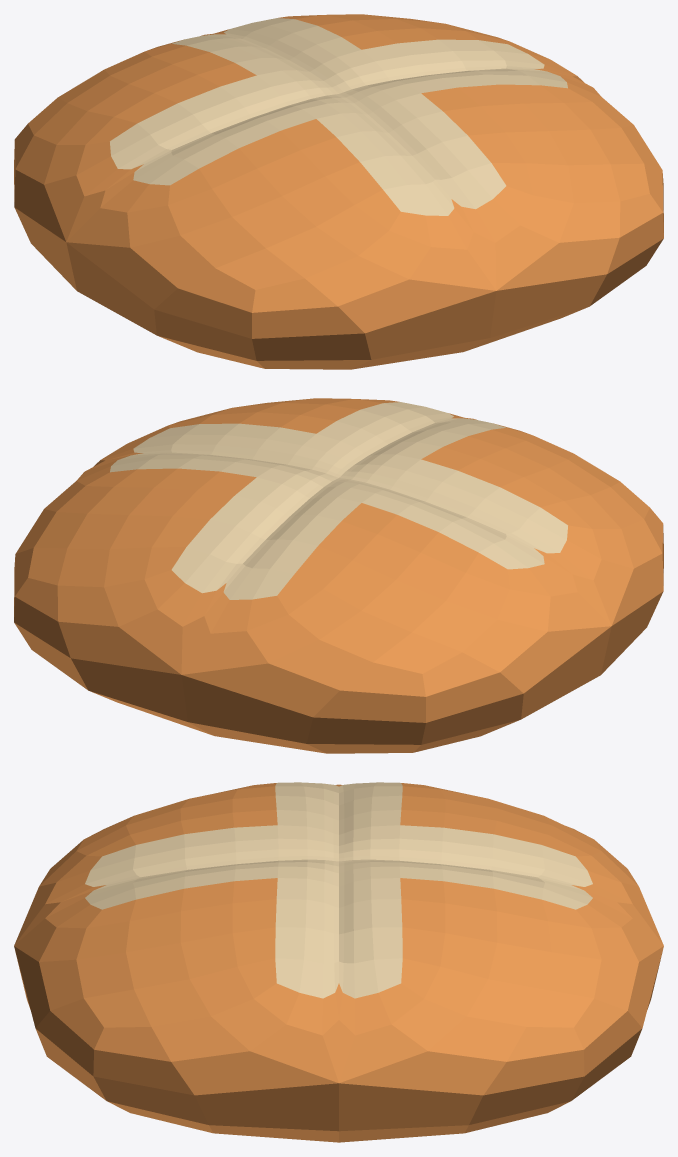
File: market-bread1.fbx
The picture shows the model from 3 angles, top to bottom: view 1: azimuth 30°, elevation 25°; view 2: azimuth 150°, elevation 25°; view 3: azimuth 270°, elevation 25°; orthographic projection. The views are drawn at different scales.
Parts seen in each view (by area): view 1: Cube.138; view 2: Cube.138; view 3: Cube.138.
Part boxes in pixels (x1,y1,x2,y2): Cube.138: [14, 14, 663, 369]; Cube.138: [14, 398, 663, 753]; Cube.138: [14, 782, 663, 1142].
Size of the model in its own units: 65.3 by 23.21 by 65.29.
